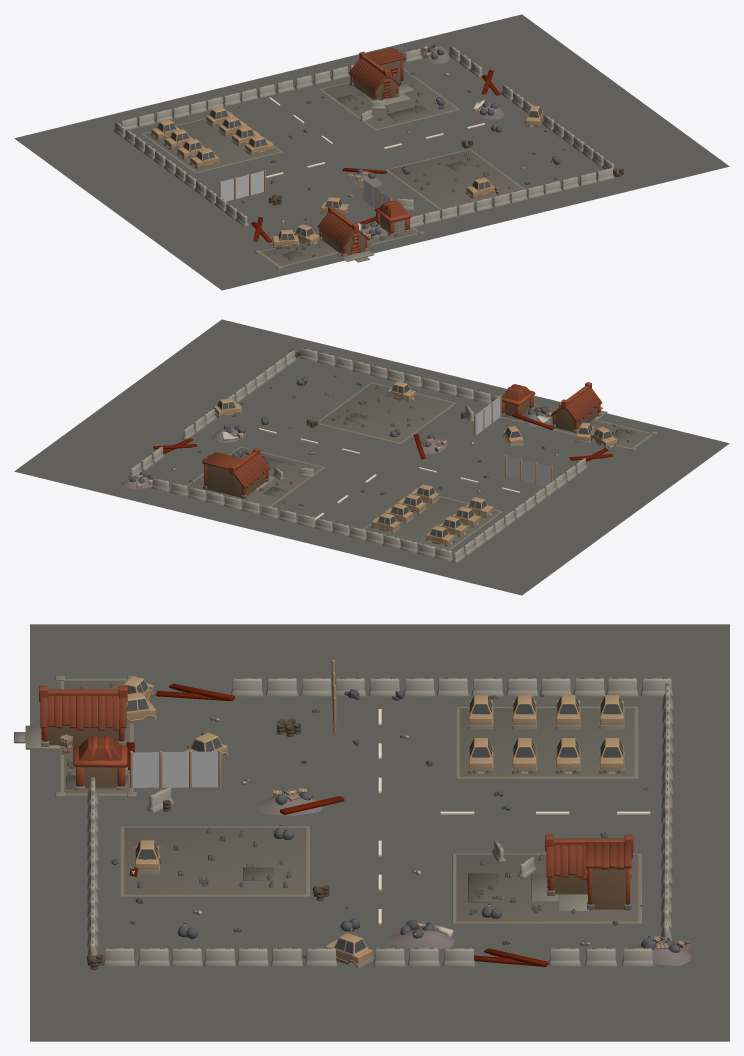
Rendered from SM_Env_2_B.fbx.
3 renders of one model, top to bottom at view 1: azimuth 30°, elevation 25°; view 2: azimuth 150°, elevation 25°; view 3: azimuth 270°, elevation 25°, orthographic. The views are drawn at different scales.
Parts seen in each view (by area): view 1: Ground, Cube.045, Plane.015, Plane.016, Plane.014, Cube.026, Cube.016, Cube.027, Cube.022, Plane.012; view 2: Ground, Cube.045, Plane.015, Plane.014, Plane.016, Cube.026, Cube.016, Cube.022, Cube.027, Cube.020; view 3: Ground, Plane.015, Cube.045, Plane.016, Plane.014, Cube.022, Cube.027, Cube.016, Plane.013, Plane.012, Car.004, Cube.028 (+1 smaller).
Part boxes in pixels (left/top/right/bottom): Ground: left=14, top=14, right=729, bottom=290; Cube.045: left=113, top=45, right=614, bottom=242; Plane.015: left=254, top=140, right=623, bottom=269; Plane.016: left=319, top=47, right=460, bottom=130; Plane.014: left=141, top=107, right=282, bottom=173; Cube.026: left=219, top=169, right=265, bottom=201; Cube.016: left=271, top=224, right=320, bottom=248; Cube.027: left=342, top=100, right=504, bottom=173; Cube.022: left=363, top=179, right=391, bottom=208; Plane.012: left=421, top=43, right=449, bottom=63; Ground: left=14, top=319, right=729, bottom=595; Cube.045: left=129, top=348, right=613, bottom=562; Plane.015: left=289, top=349, right=657, bottom=450; Plane.014: left=363, top=484, right=502, bottom=550; Plane.016: left=186, top=446, right=324, bottom=506; Cube.026: left=505, top=455, right=552, bottom=485; Cube.016: left=575, top=422, right=617, bottom=448; Cube.022: left=474, top=395, right=501, bottom=436; Cube.027: left=211, top=424, right=425, bottom=458; Cube.020: left=512, top=406, right=554, bottom=429; Ground: left=30, top=624, right=729, bottom=1041; Plane.015: left=14, top=675, right=329, bottom=969; Cube.045: left=87, top=677, right=673, bottom=966; Plane.016: left=452, top=835, right=641, bottom=923; Plane.014: left=456, top=695, right=638, bottom=778; Cube.022: left=130, top=750, right=221, bottom=788; Cube.027: left=280, top=796, right=454, bottom=949; Cube.016: left=123, top=676, right=156, bottom=723; Plane.013: left=257, top=787, right=322, bottom=815; Plane.012: left=632, top=935, right=691, bottom=965; Car.004: left=325, top=933, right=373, bottom=968; Cube.028: left=111, top=689, right=648, bottom=958.
Bounding box in the file's own units: 8538 × 529 × 6192.
